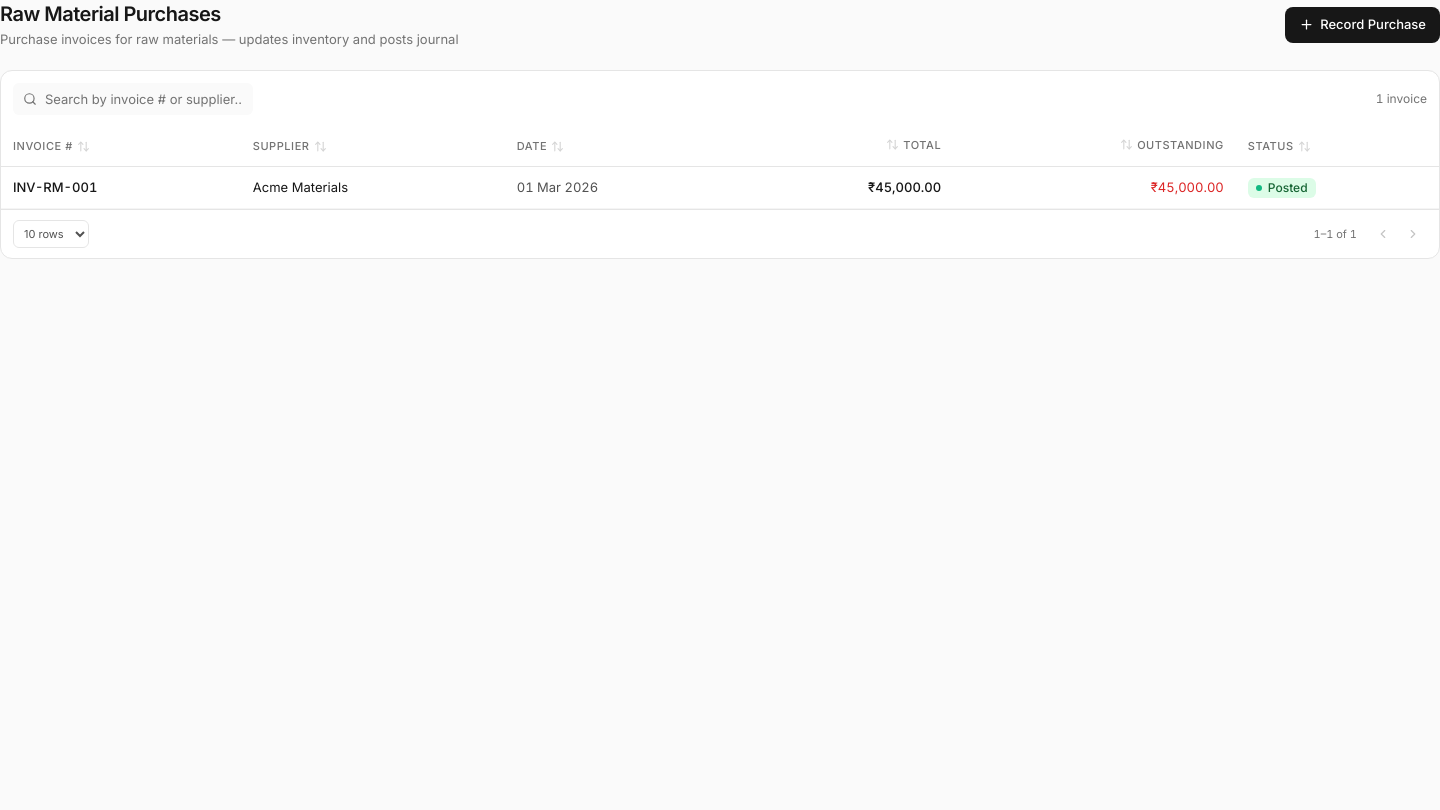
Scenario: RawMaterialPurchasesPage › shows journal entry reference in purchase detail when journal is linked
# Click the row to open detail modal
Click the text "INV-RM-001" at (55, 186), box [13,178,97,194]
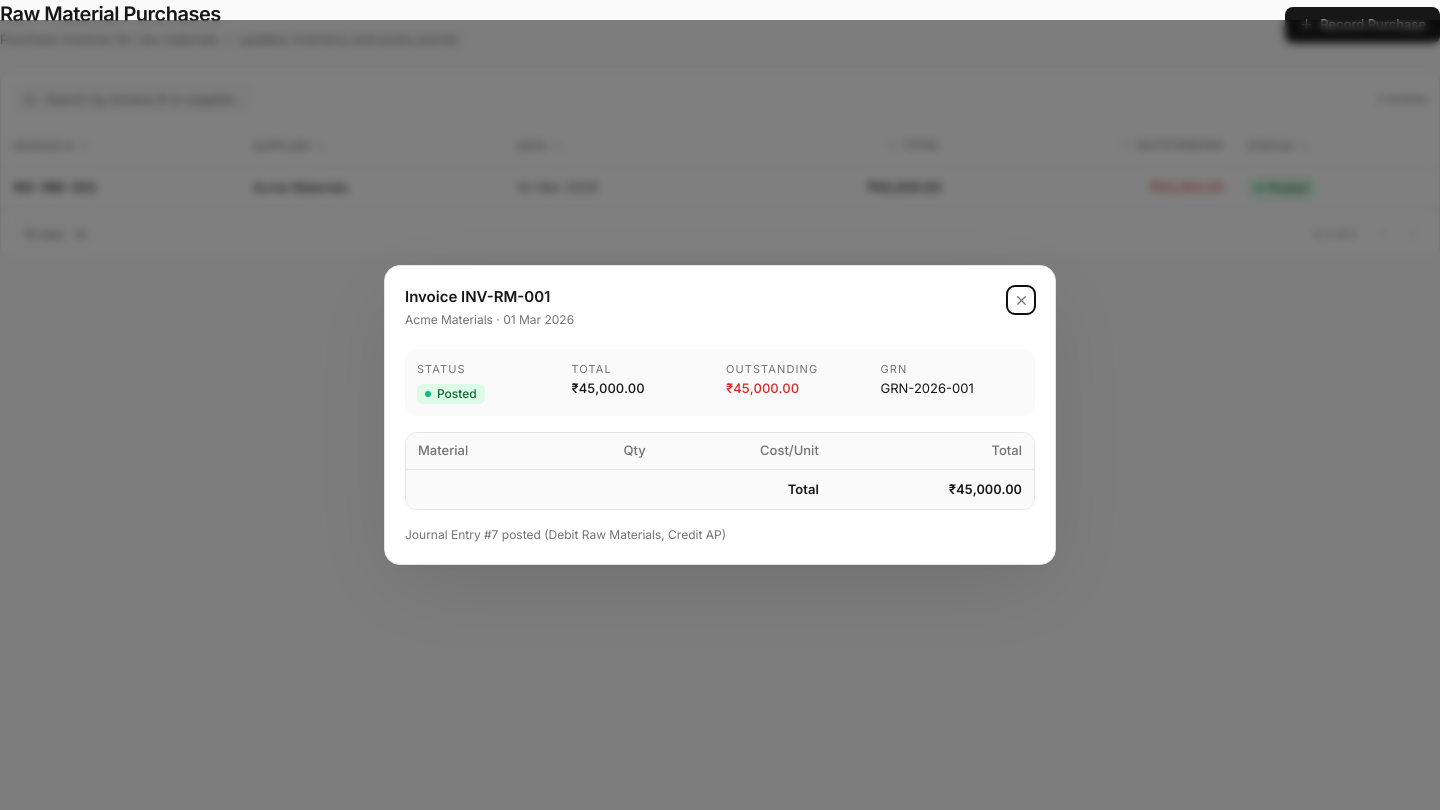
Result: the text "Journal Entry #7 posted (Debit Raw Materials, Credit AP)" is shown at [405,527,726,542]
